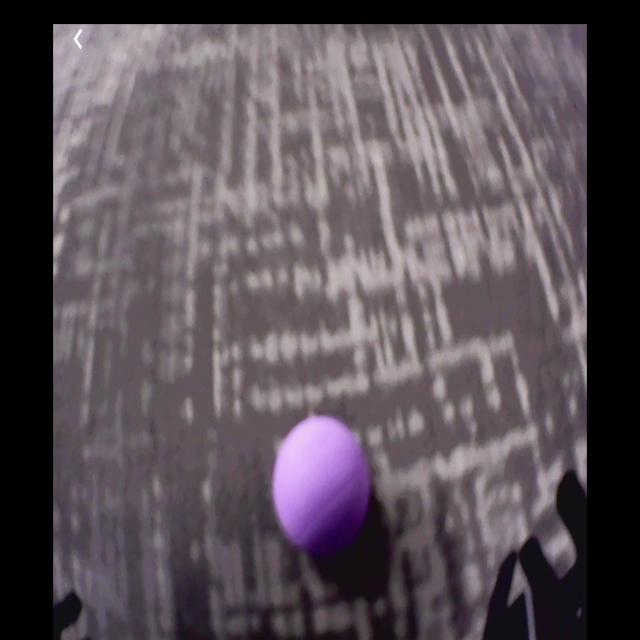ball: (275, 416, 370, 554)
